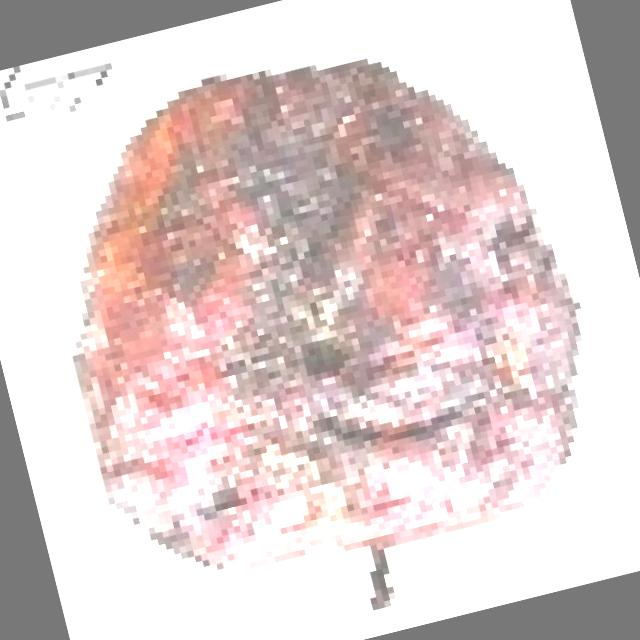Apple: (9, 0, 624, 619)
